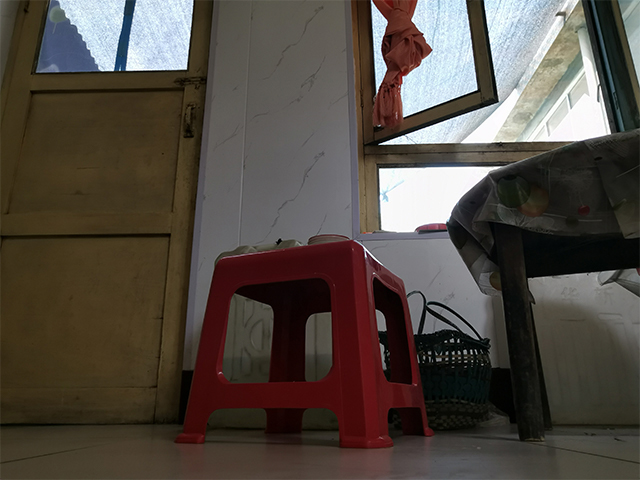stool: (169, 237, 437, 449)
table: (444, 126, 640, 443)
